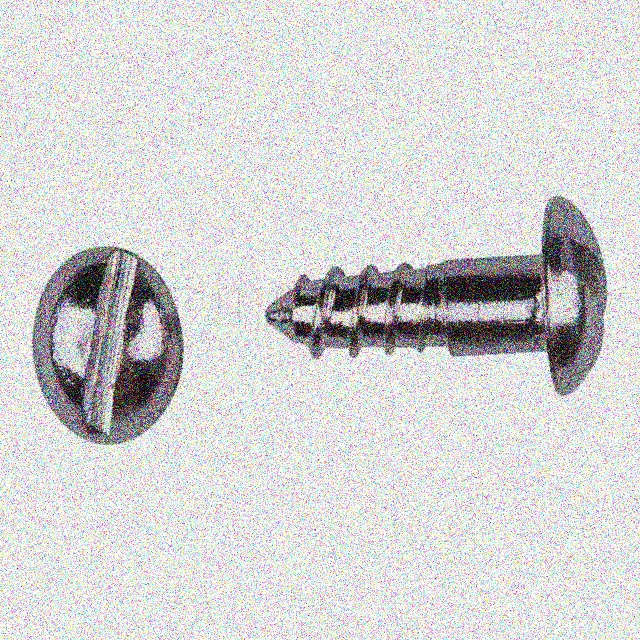duz: (31, 247, 185, 448)
